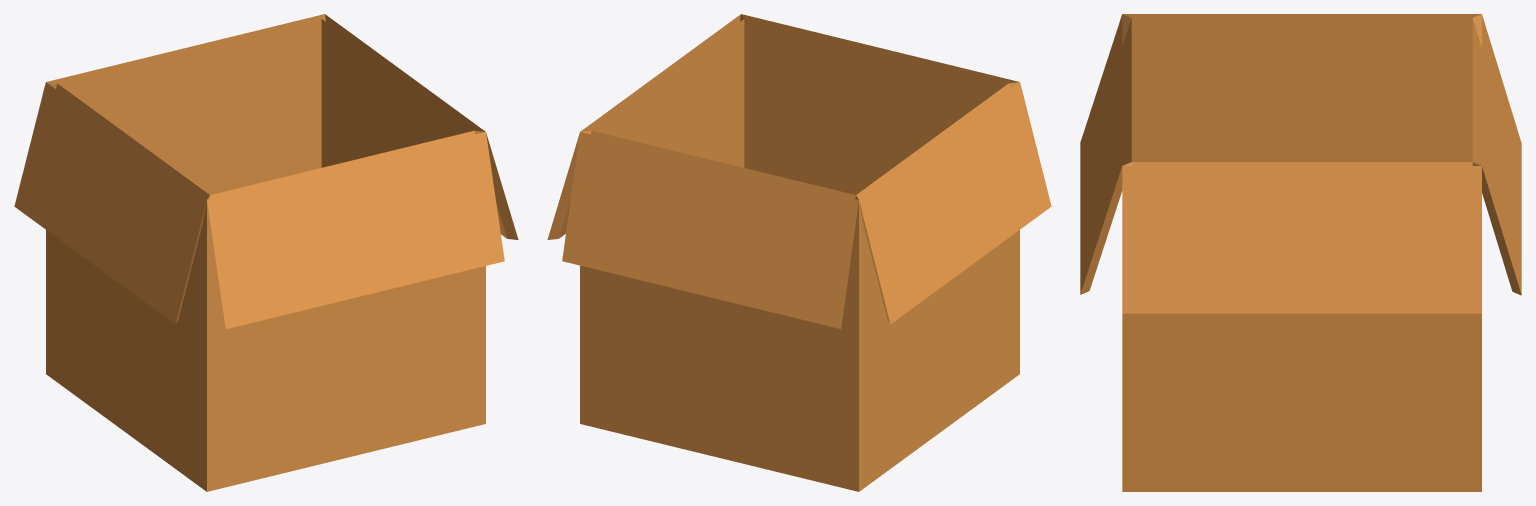
3 views of the same model, side by side, from view 1: azimuth 30°, elevation 25°; view 2: azimuth 150°, elevation 25°; view 3: azimuth 270°, elevation 25° (orthographic). The views are drawn at different scales.
Parts seen in each view (by area): view 1: Cube; view 2: Cube; view 3: Cube.
Part boxes in pixels (box(x1,y1,x2,y2)): Cube: box(14, 14, 518, 491); Cube: box(547, 14, 1051, 491); Cube: box(1080, 14, 1521, 491).
Bounding box in the file's own units: 246 × 200 × 246.
Materials: 1 (1 with a texture image).
